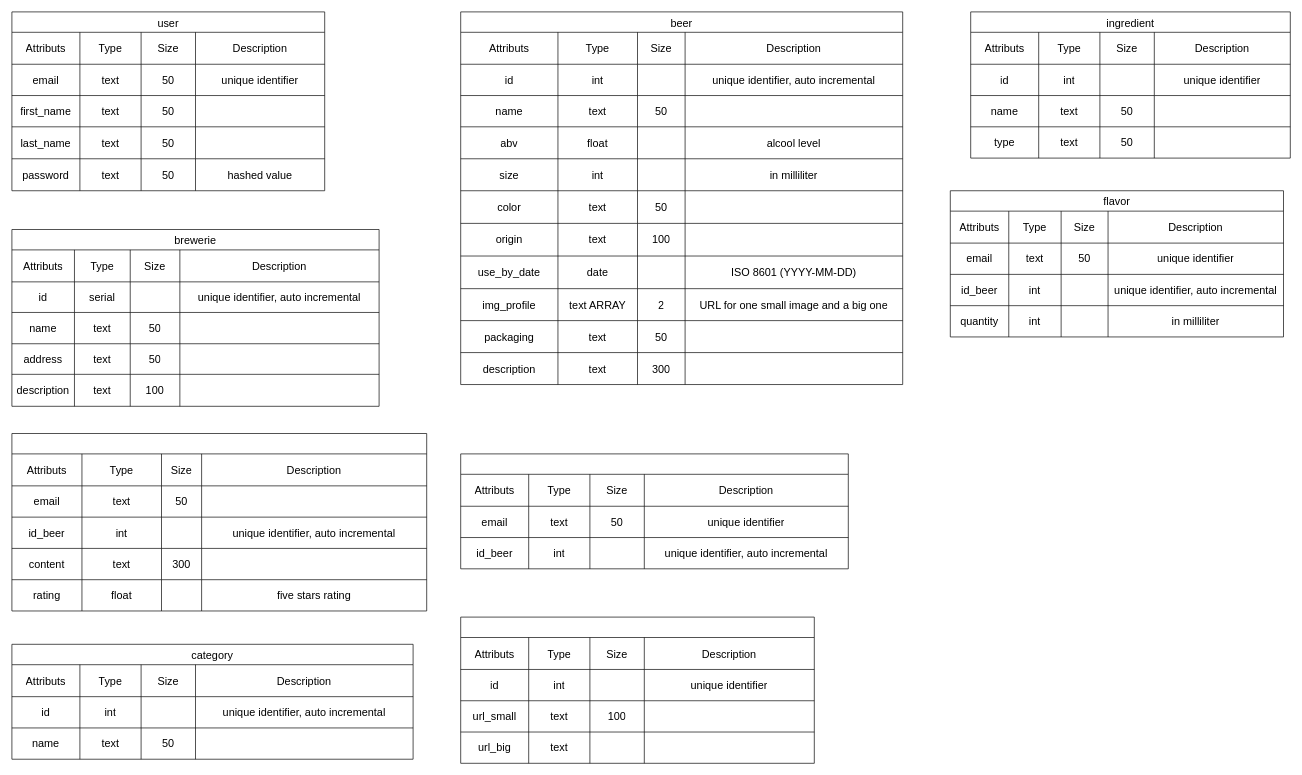
This 1302x775 diagram has some shape labels left out. Here are the shapes that lost their labels. From the top down, the box of each, then its label:
(11, 433, 427, 611): review
(460, 453, 848, 569): favorite
(460, 616, 814, 763): photo
